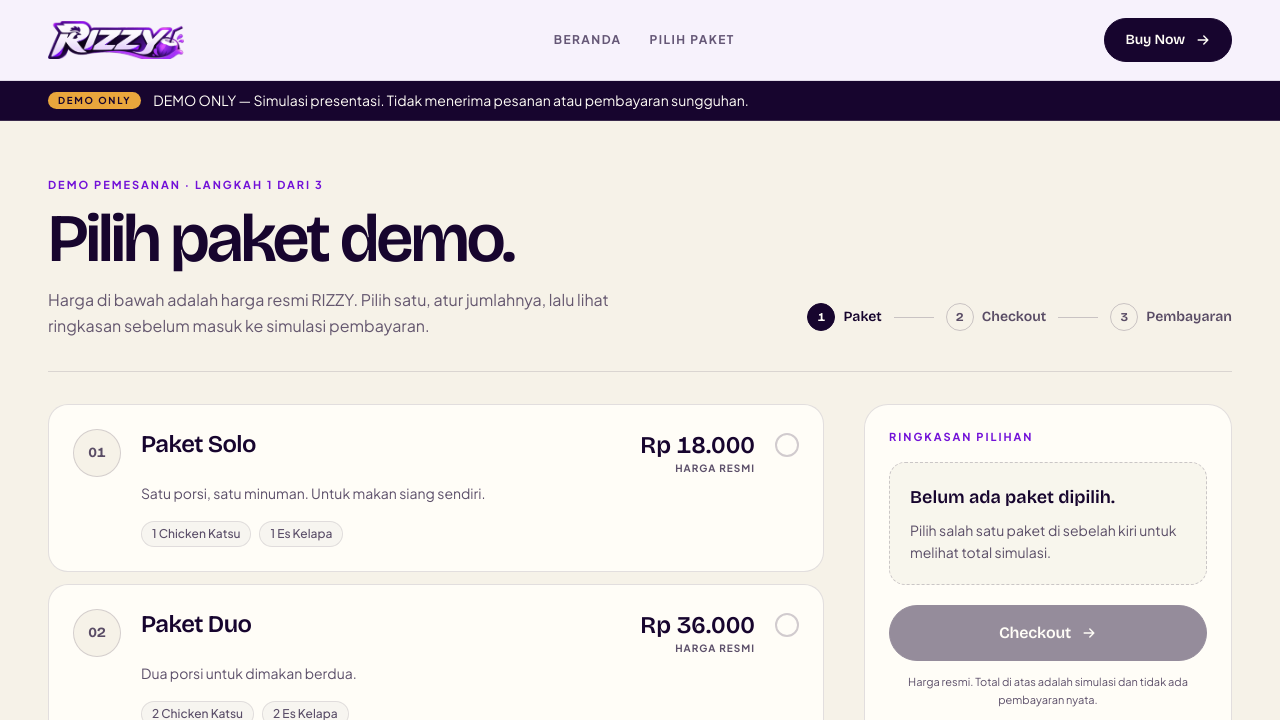
RIZZY demo application › selects a package, recalculates totals, and reaches checkout
Check: the button "Checkout" is disabled, box [889,605,1207,661]
Check: the text "Belum ada paket dipilih." is shown, box [910,486,1115,508]
Click the heading "Paket Duo": click(196, 624) [141,609,251,639]
(page scrolled)
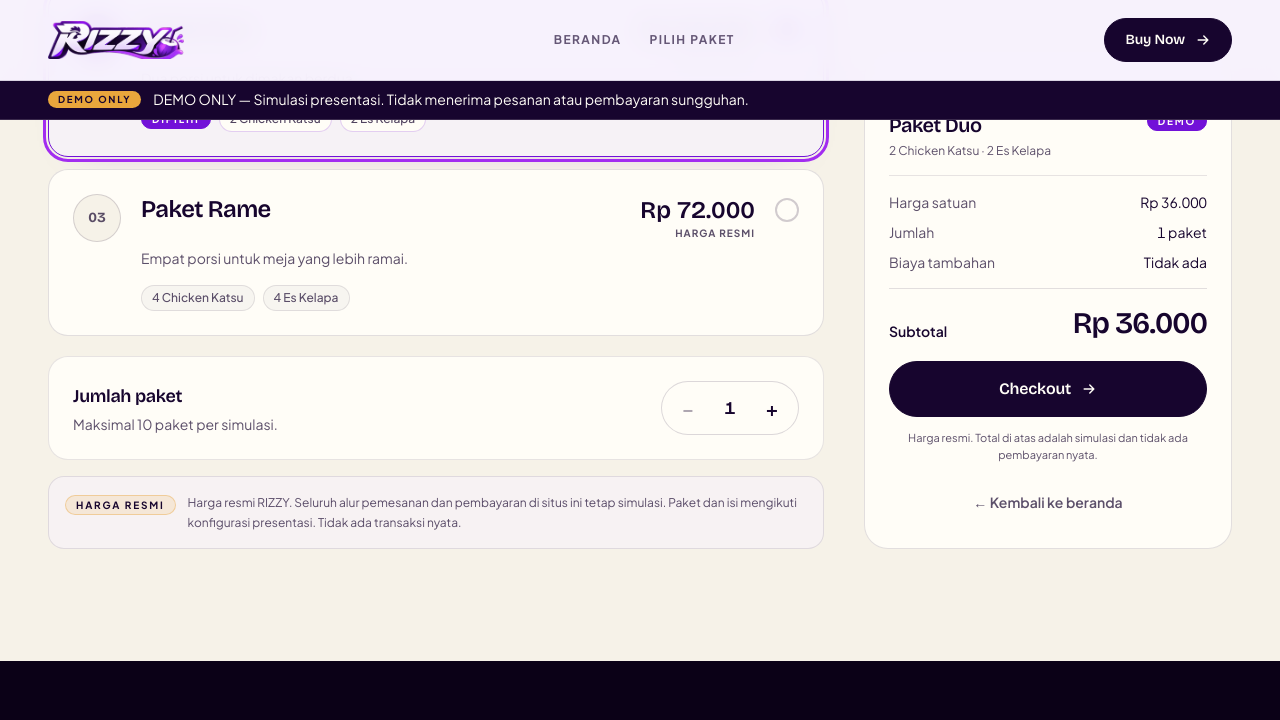
Check: the text "Dipilih" is shown, box [141,108,211,128]
Click the button named "Tambah jumlah": click(772, 408) [750,386,794,430]
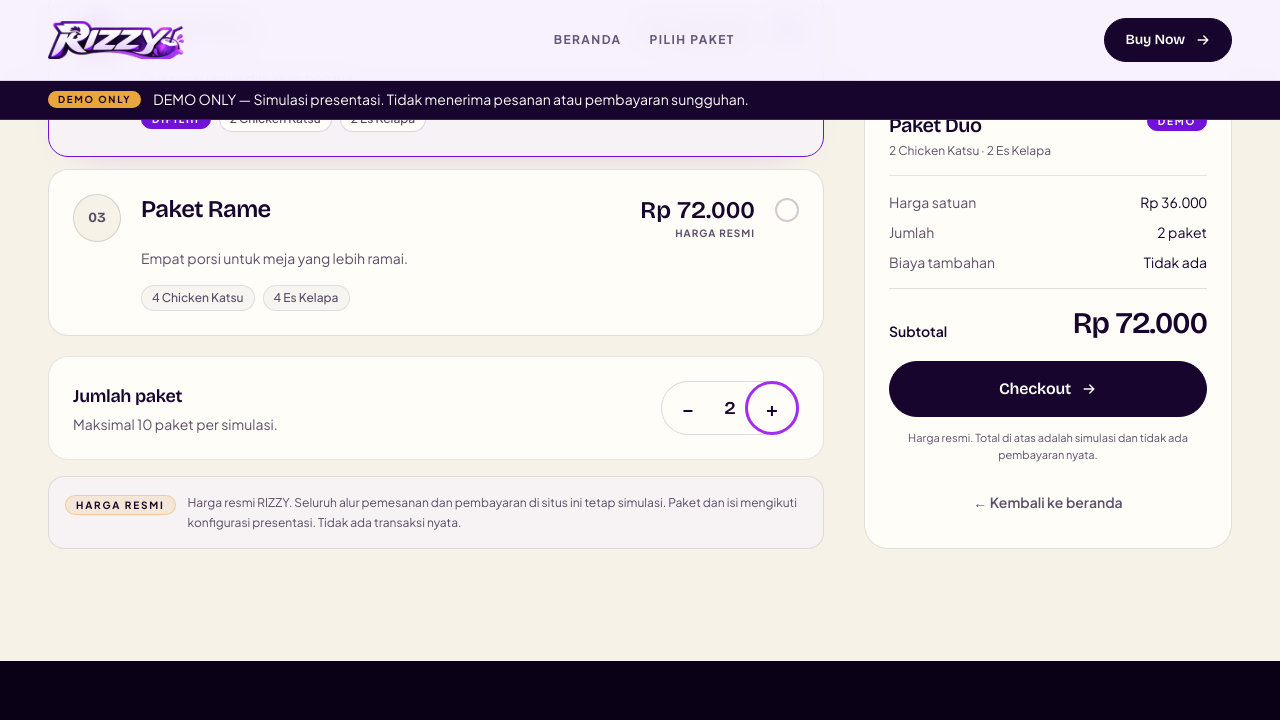
Check: the button "Checkout" is enabled
Check: the text named "Jumlah: 2" is shown, box [724,397,736,419]
Click the button "Checkout": click(1048, 388) [889,360,1207,416]
(page scrolled)
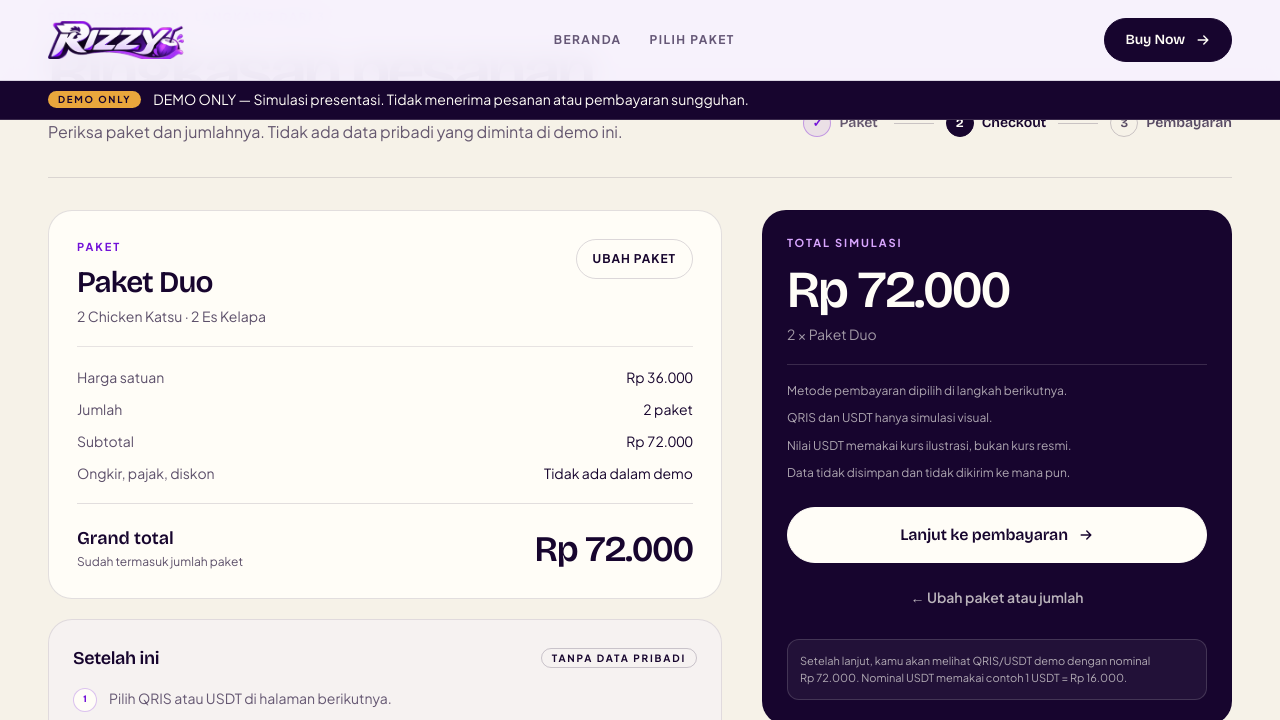
Check: the heading "Ringkasan pesanan." is shown, box [48,38,623,103]
Check: the element "Paket Duo" is shown, box [48,210,722,598]
